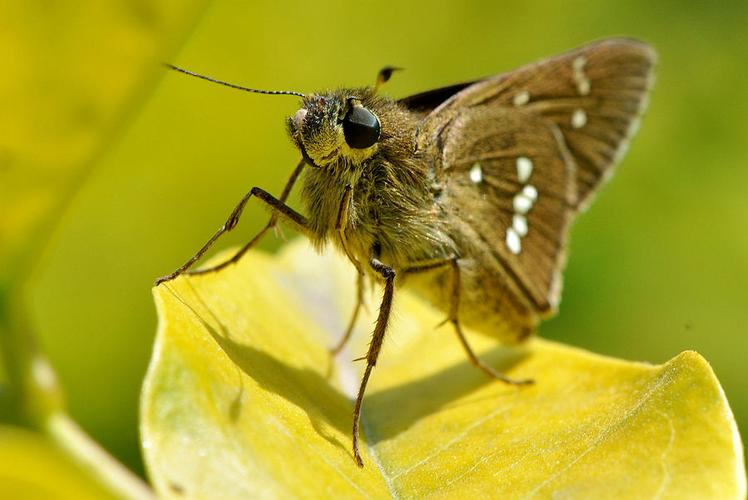Hesperiidae: (156, 32, 660, 469)
